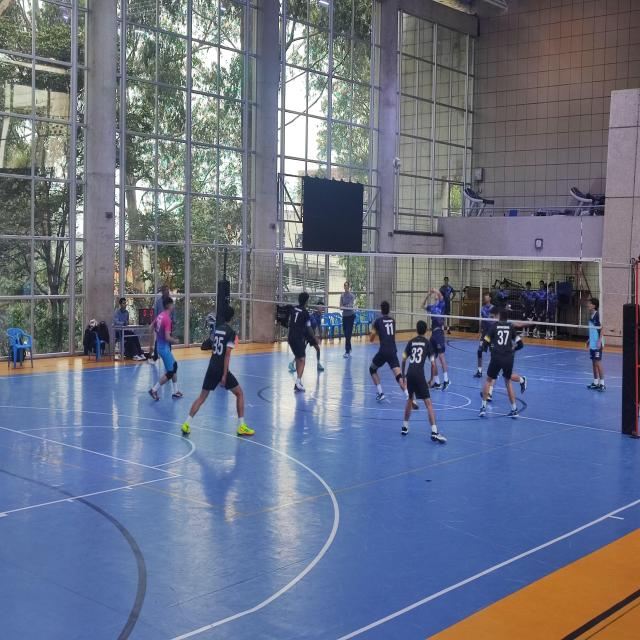volleyball: (392, 158, 401, 170), (89, 318, 98, 329)
